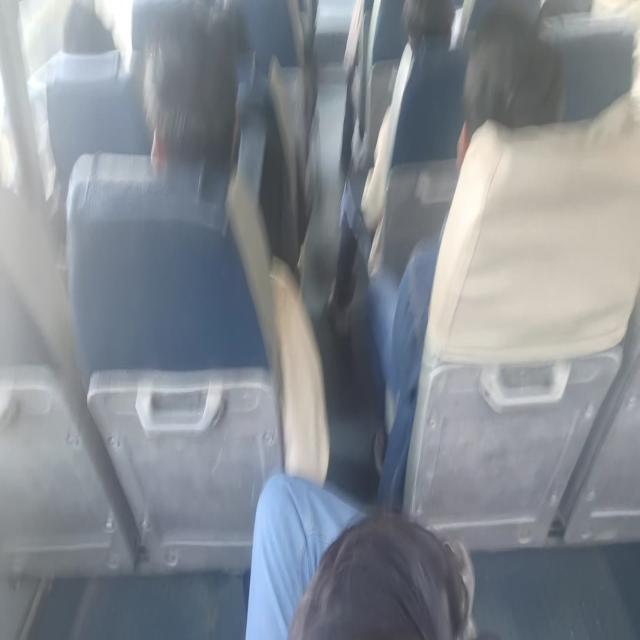person: (290, 502, 479, 640), (452, 32, 558, 171), (149, 25, 232, 189), (403, 0, 461, 53), (59, 0, 118, 52), (198, 0, 246, 47)
